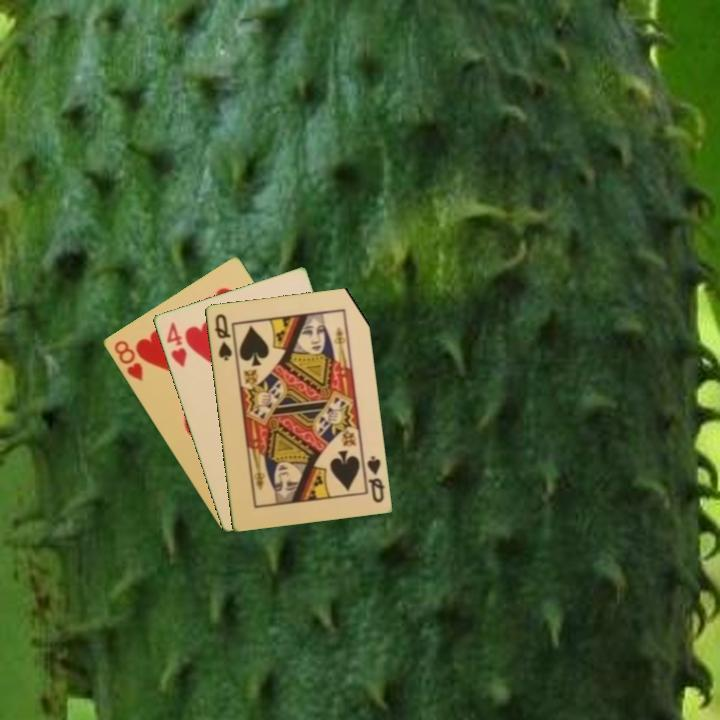4h: (162, 318, 189, 370)
8h: (110, 336, 146, 384)
Qs: (211, 310, 235, 363), (363, 452, 387, 505)
